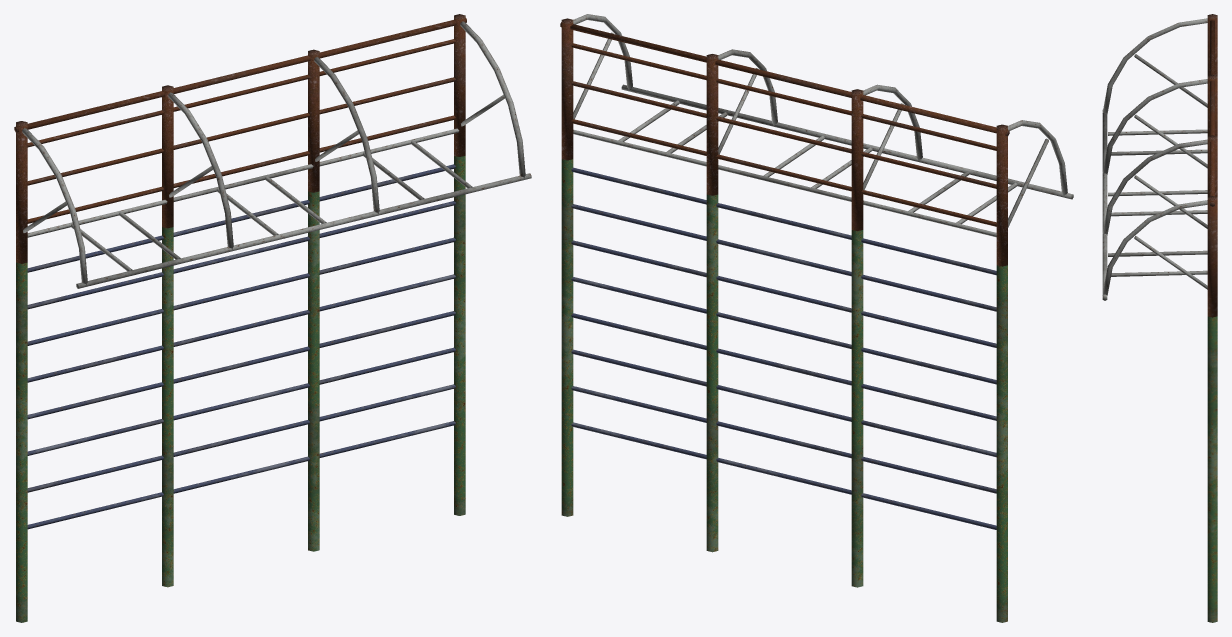
File: playground_wall_bars_lod2_web.glb
3 renders of one model, left to right at view 1: azimuth 30°, elevation 25°; view 2: azimuth 150°, elevation 25°; view 3: azimuth 270°, elevation 25°, orthographic. The views are drawn at different scales.
Parts seen in each view (by area): view 1: WallBars_Mesh; view 2: WallBars_Mesh; view 3: WallBars_Mesh.
Part boxes in pixels (left/top/right/bottom): WallBars_Mesh: left=14, top=14, right=531, bottom=622; WallBars_Mesh: left=560, top=14, right=1073, bottom=622; WallBars_Mesh: left=1102, top=14, right=1217, bottom=622.
Size of the model in its own units: 3.1 by 3.25 by 0.8024.
4 materials, 4 textured.
